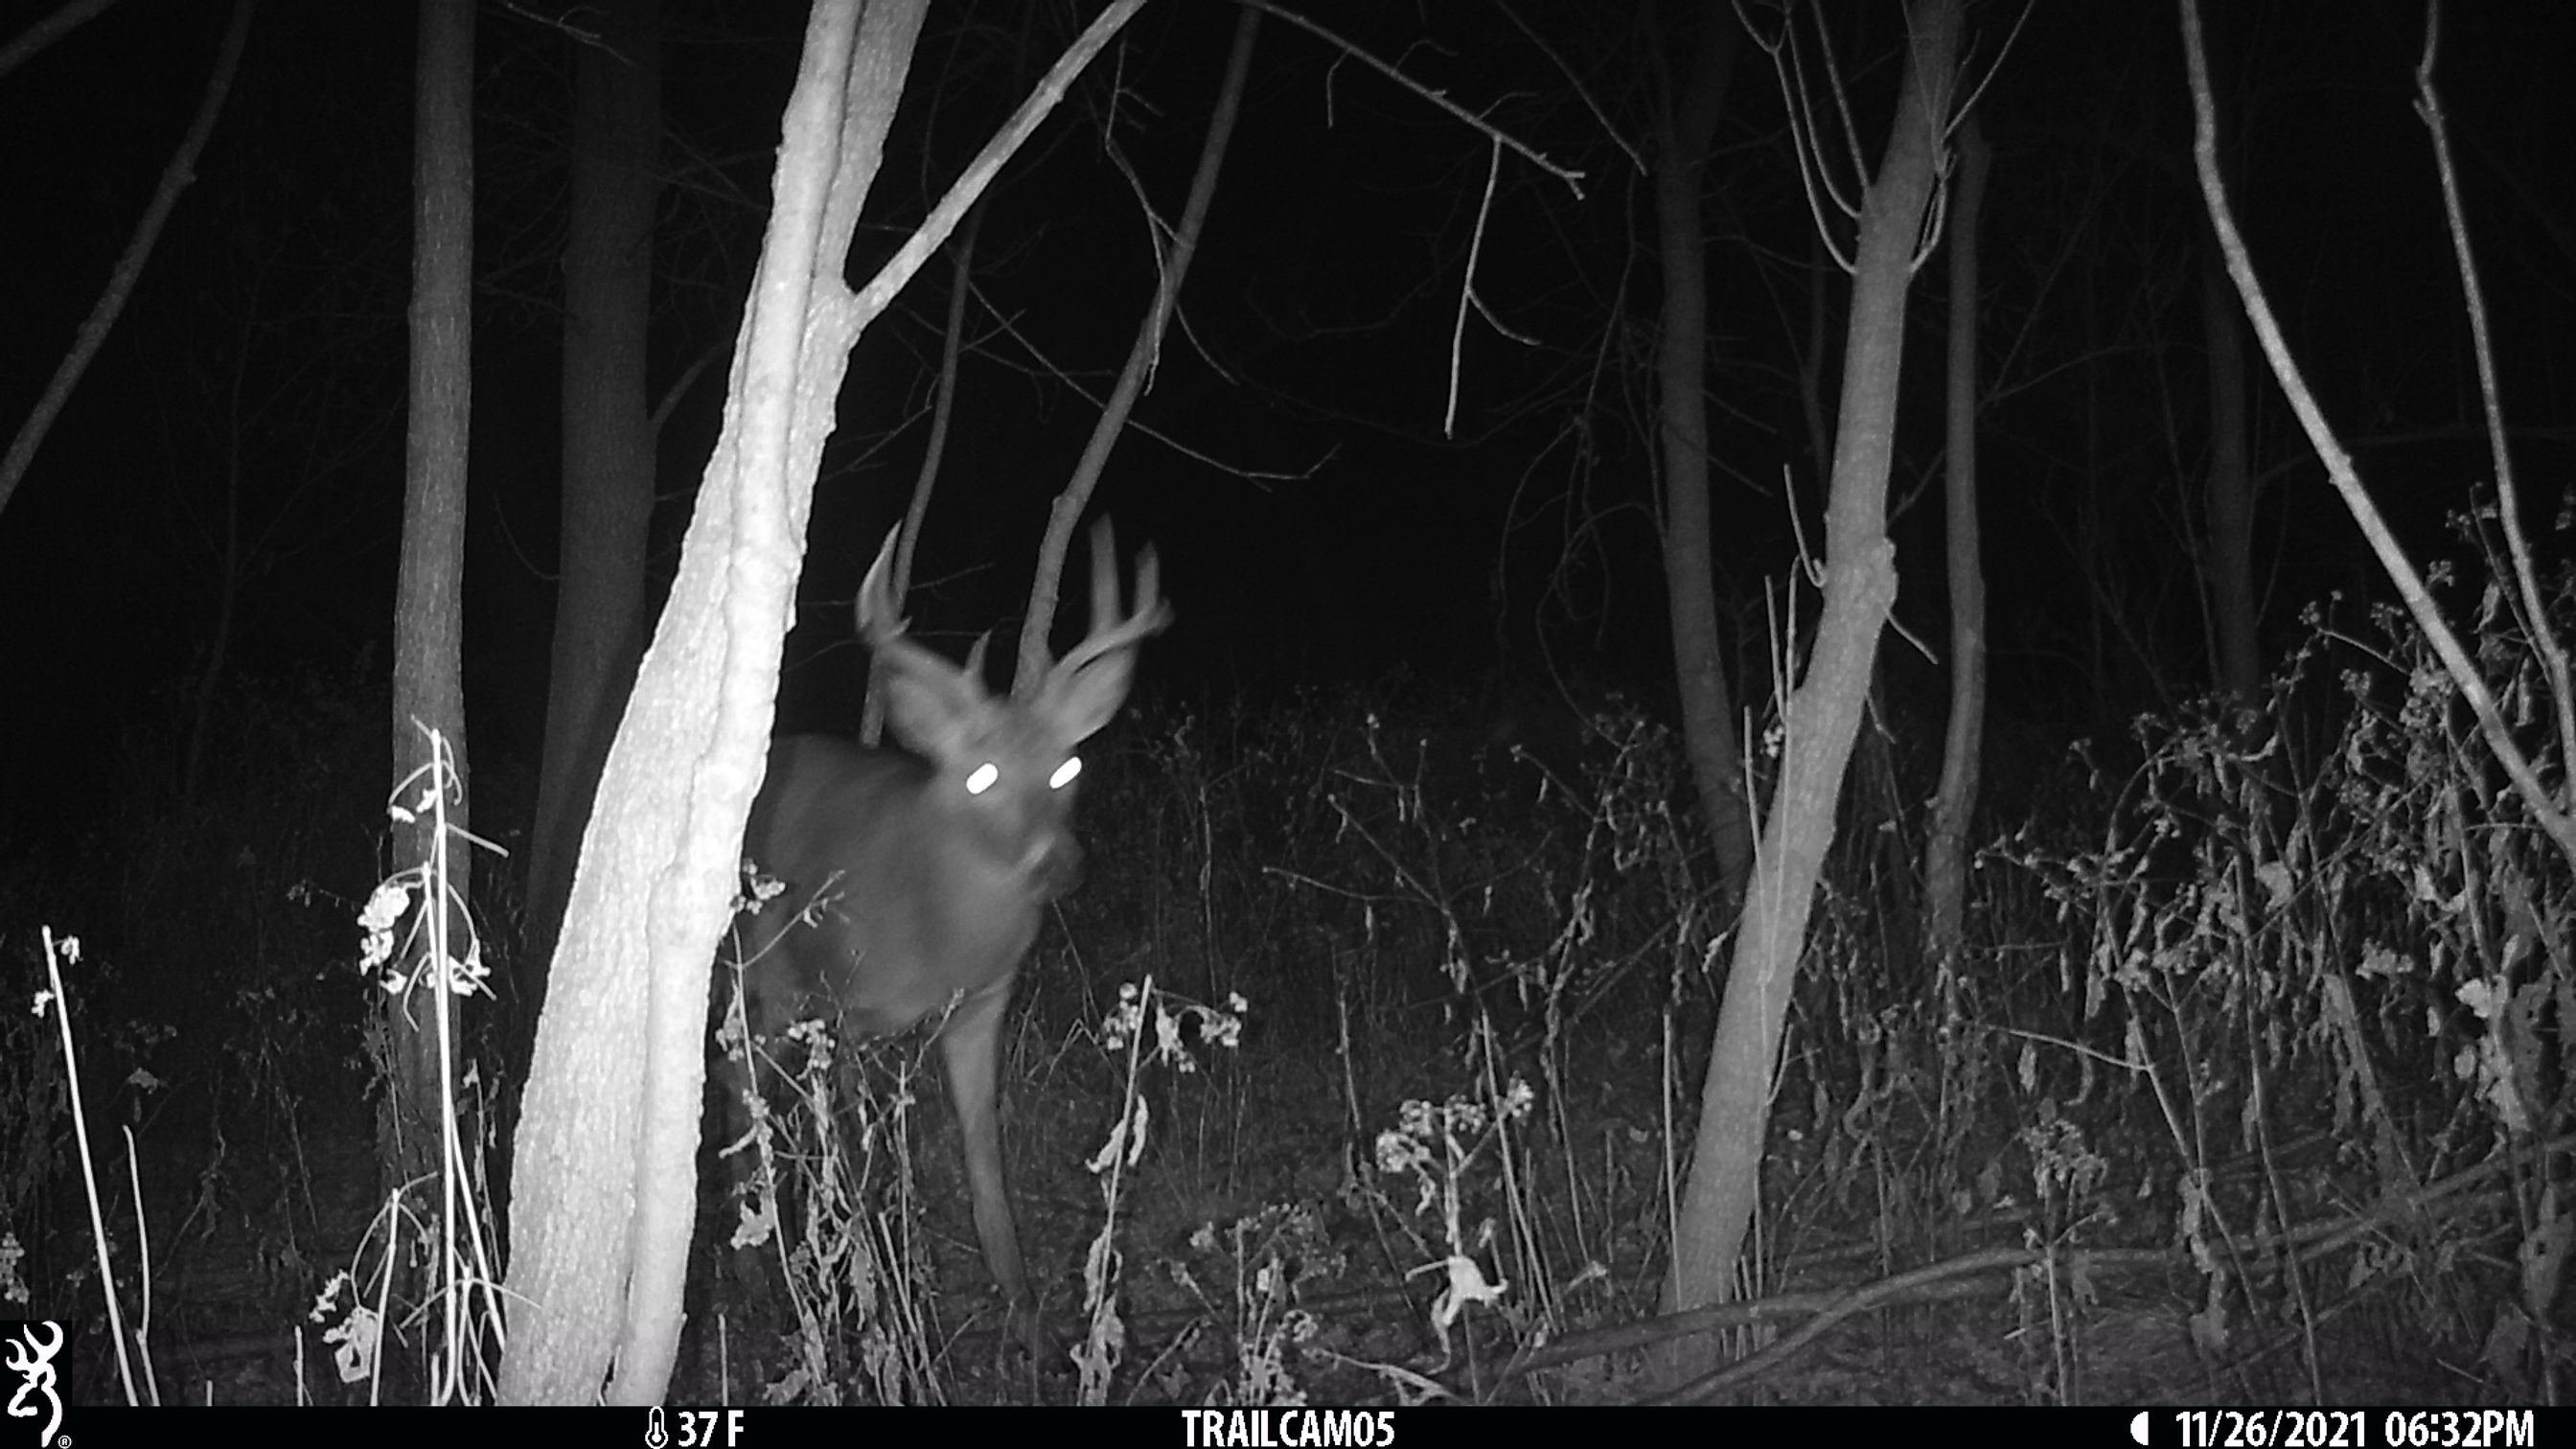DeerBuck: (694, 512, 1179, 1271)
DeerBuckHead: (841, 514, 1177, 904)
